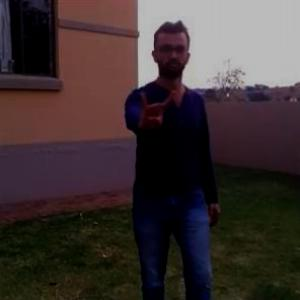takeoff-hand: (132, 81, 179, 131)
